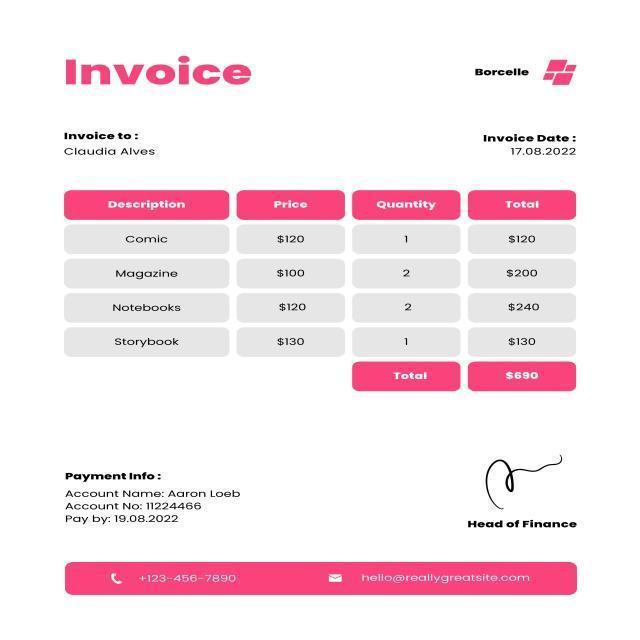ROI: (62, 181, 598, 350), (54, 447, 267, 530), (444, 447, 606, 549), (54, 46, 256, 104), (359, 354, 568, 409), (311, 551, 540, 597), (87, 559, 260, 602), (51, 119, 174, 169), (467, 121, 595, 166), (471, 52, 531, 90), (538, 52, 581, 98)
